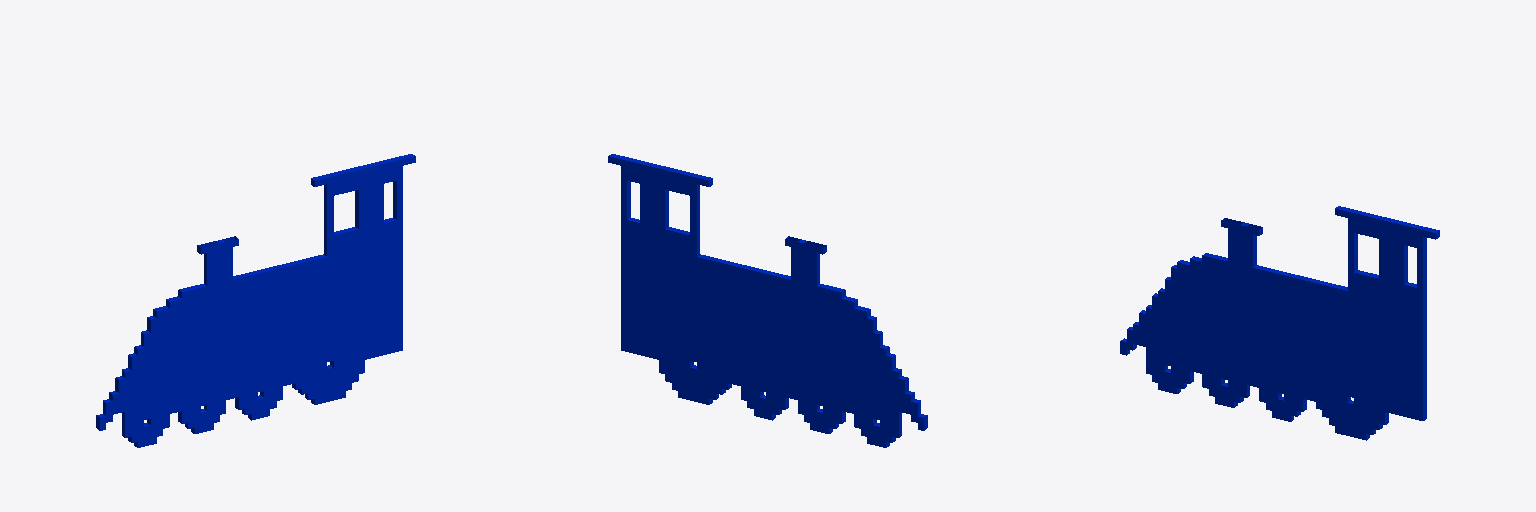
The picture shows the model from 3 angles: view 1: azimuth 30°, elevation 25°; view 2: azimuth 150°, elevation 25°; view 3: azimuth 330°, elevation 25°; orthographic projection.
Parts seen in each view (by area): view 1: object 1; view 2: object 1; view 3: object 1.
Boxes of the visible parts, x1=… form: object 1: x1=96, y1=154, x2=415, y2=447; object 1: x1=608, y1=154, x2=927, y2=447; object 1: x1=1120, y1=206, x2=1439, y2=440.
Bounding box in the file's own units: 5 × 4.9 × 0.1.
1 materials, 1 textured.